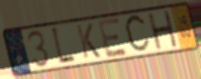3: (27, 29, 50, 68)
C: (123, 12, 152, 56)
E: (96, 16, 130, 60)
H: (146, 9, 180, 52)
K: (74, 22, 103, 60)
L: (49, 26, 78, 67)
